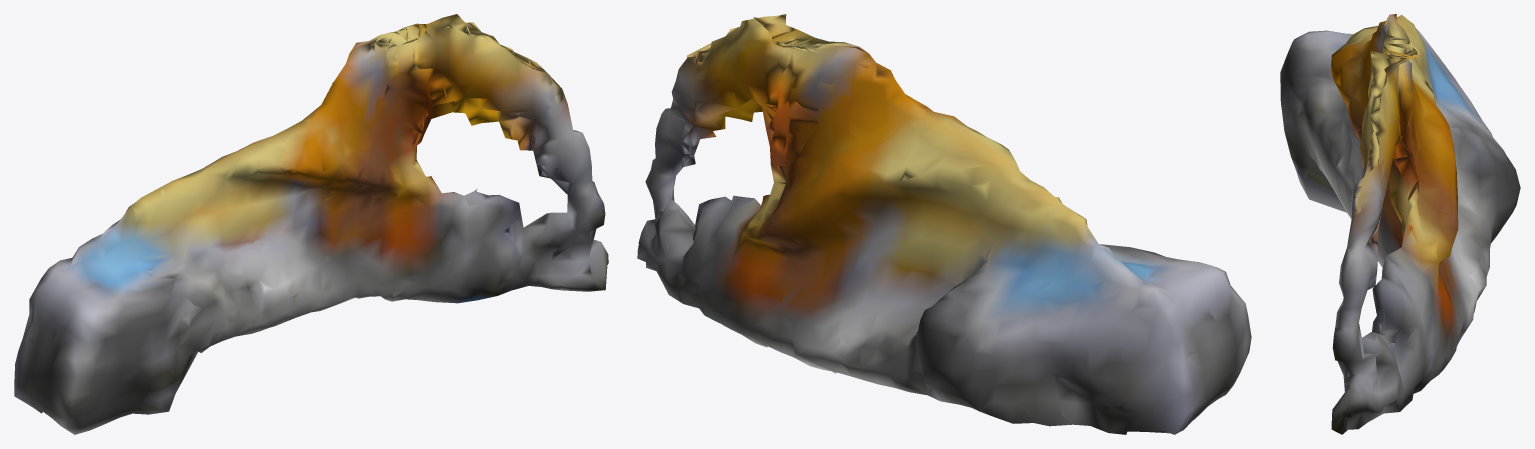
File: allied_service_depot.glb
3 renders of one model, left to right at view 1: azimuth 30°, elevation 25°; view 2: azimuth 150°, elevation 25°; view 3: azimuth 270°, elevation 25°, orthographic. The views are drawn at different scales.
Visible parts, largest first — view 1: allied_service_depot; view 2: allied_service_depot; view 3: allied_service_depot.
Part boxes in pixels (left/top/right/bottom): allied_service_depot: left=14, top=14, right=608, bottom=434; allied_service_depot: left=637, top=14, right=1251, bottom=434; allied_service_depot: left=1280, top=14, right=1520, bottom=434.
Size of the model in its own units: 2.61 by 1.29 by 0.8863.
